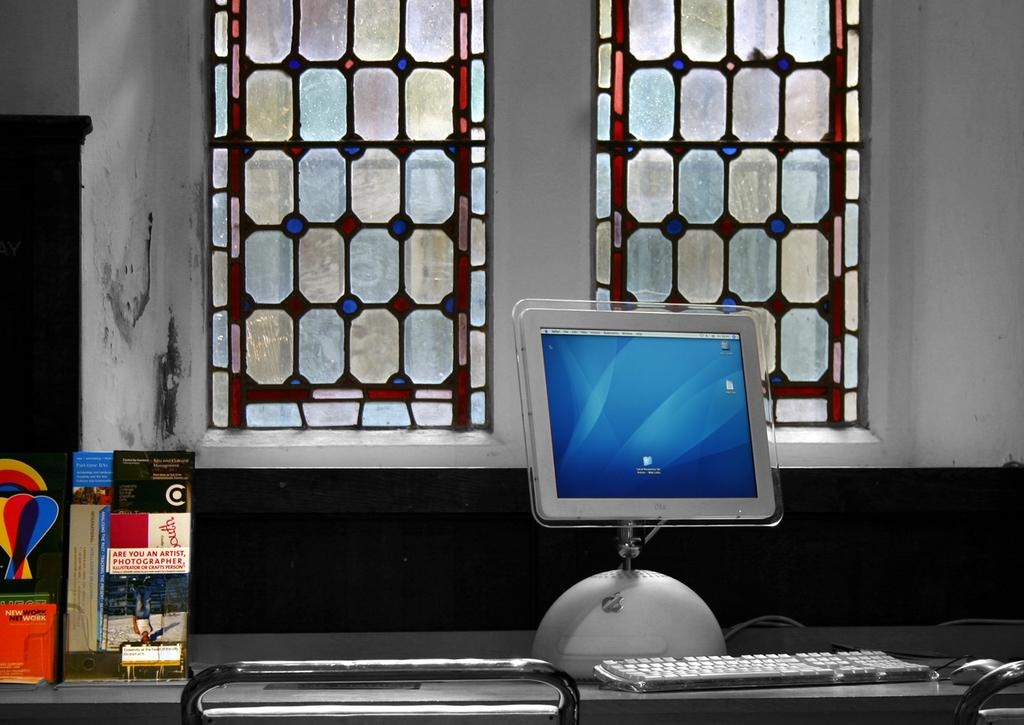Computer-monitor: (524, 305, 771, 596)
